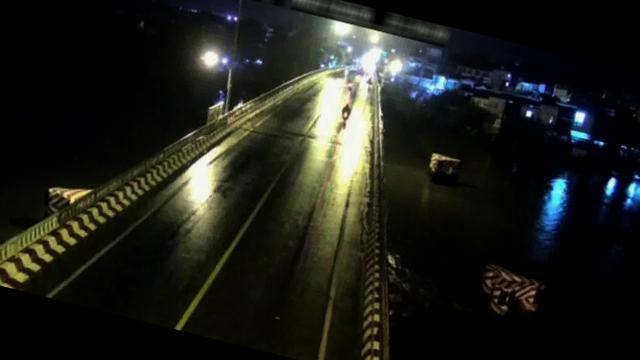Bike: (338, 102, 352, 122)
